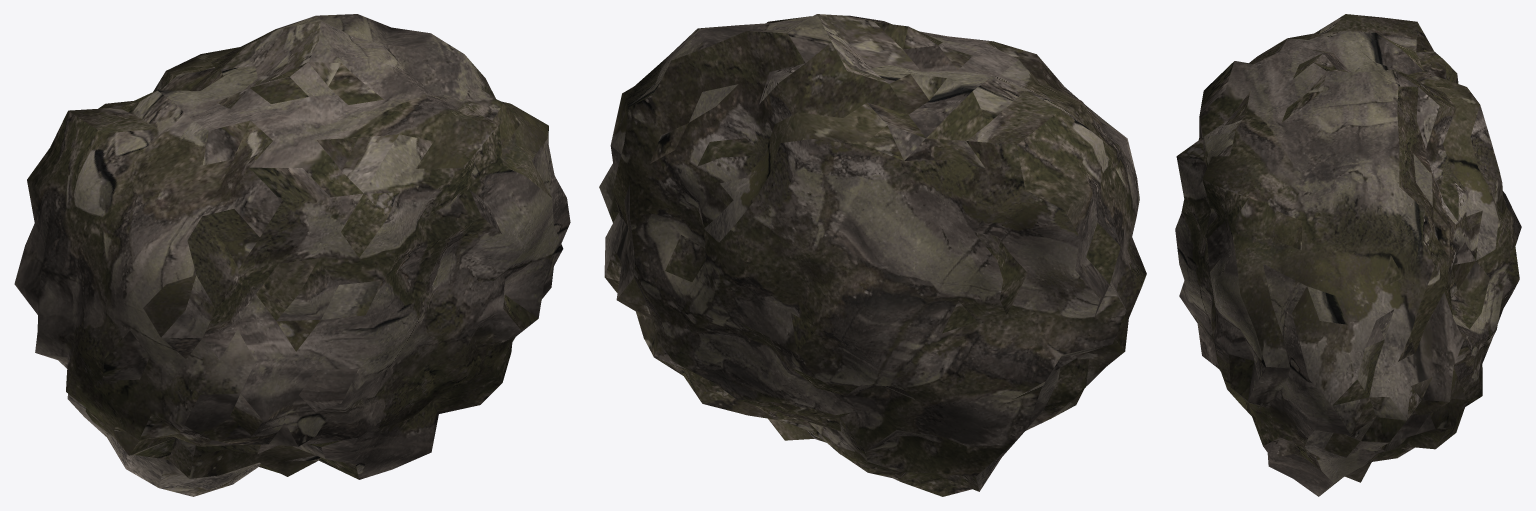
The model's file is asteroid_2.glb.
3 renders of one model, left to right at view 1: azimuth 30°, elevation 25°; view 2: azimuth 150°, elevation 25°; view 3: azimuth 270°, elevation 25°, orthographic. The views are drawn at different scales.
Parts seen in each view (by area): view 1: Asteroid2; view 2: Asteroid2; view 3: Asteroid2.
Part boxes in pixels (x1,y1,x2,y2): Asteroid2: (14, 14, 570, 496); Asteroid2: (599, 14, 1146, 496); Asteroid2: (1175, 14, 1521, 496).
Size of the model in its own units: 2.32 by 1.92 by 1.48.
Materials: 1 (1 with a texture image).
